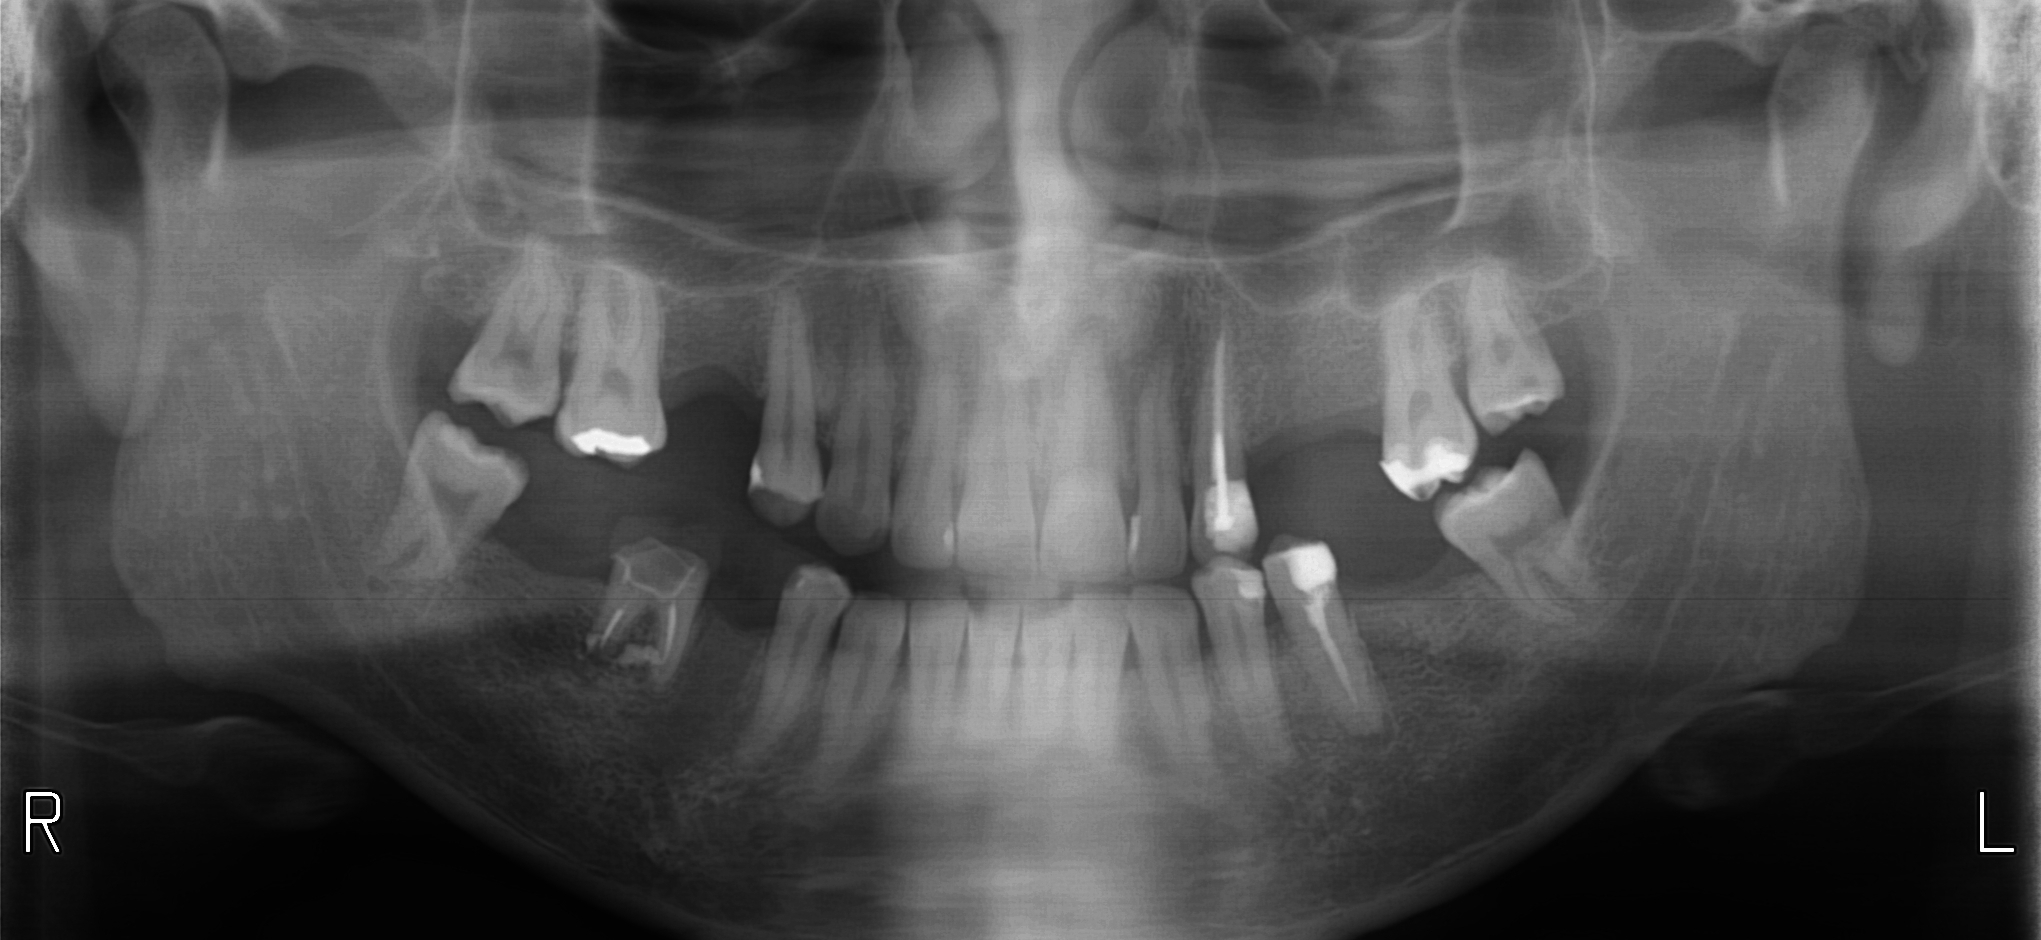cavity: (1240, 592, 1255, 607), (786, 568, 799, 582)
